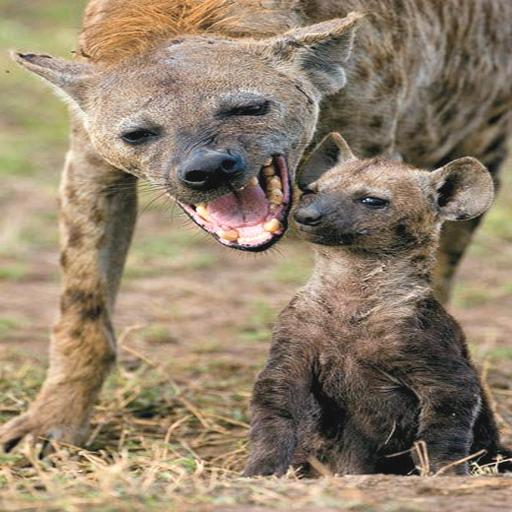hyenas: (0, 0, 504, 495)
